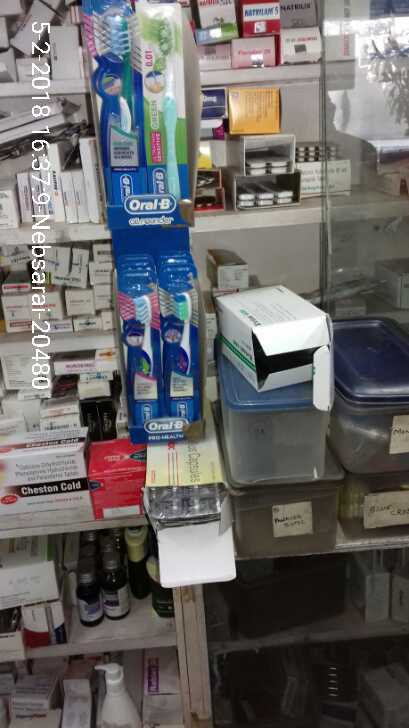oralb: (86, 1, 135, 213), (133, 19, 187, 192), (119, 286, 156, 424), (166, 292, 202, 418)
